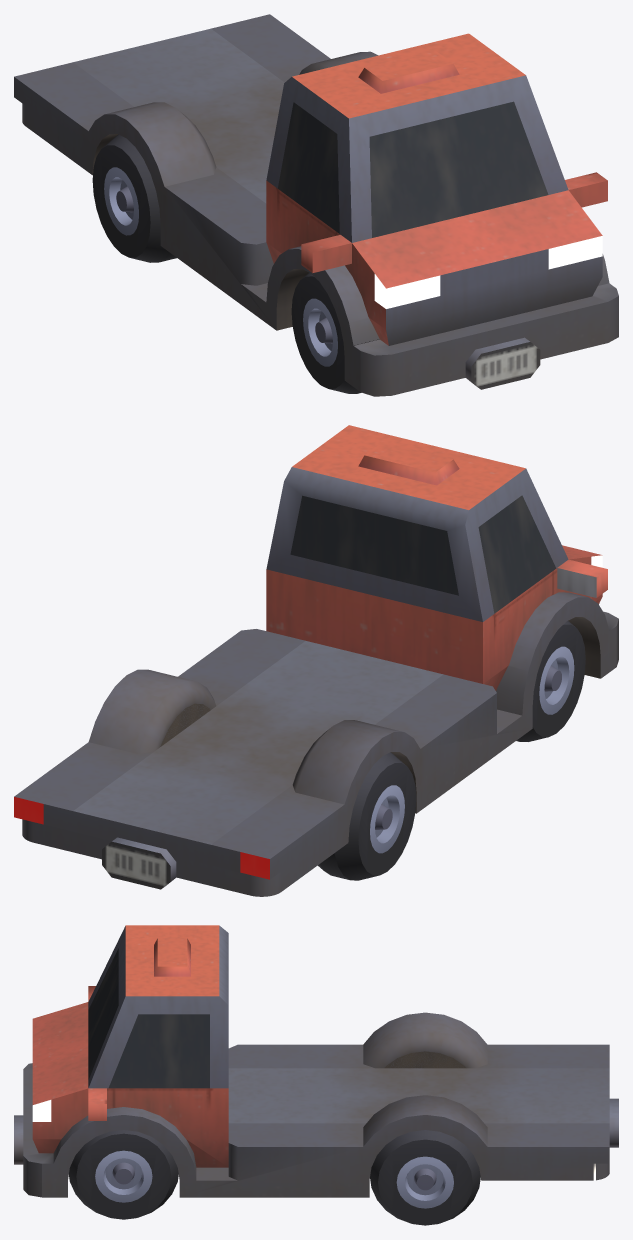
File: delivery-flat-L2.glb
3 views of the same model, one above another, from view 1: azimuth 30°, elevation 25°; view 2: azimuth 150°, elevation 25°; view 3: azimuth 270°, elevation 25° (orthographic). The views are drawn at different scales.
Parts seen in each view (by area): view 1: body, wheel-back-right, wheel-front-right; view 2: body, wheel-back-right, wheel-front-right; view 3: body, wheel-back-left, wheel-front-left.
Part boxes in pixels (box(x1,y1,x2,y2)): body: box(14, 14, 618, 396); wheel-back-right: box(92, 134, 176, 262); wheel-front-right: box(291, 272, 361, 393); body: box(14, 425, 618, 896); wheel-back-right: box(318, 752, 416, 880); wheel-front-right: box(516, 621, 585, 741); body: box(14, 925, 618, 1197); wheel-back-left: box(370, 1130, 480, 1225); wheel-front-left: box(69, 1130, 178, 1219).
Size of the model in its own units: 1.5 by 1.35 by 3.25.
5 materials, 5 textured.
